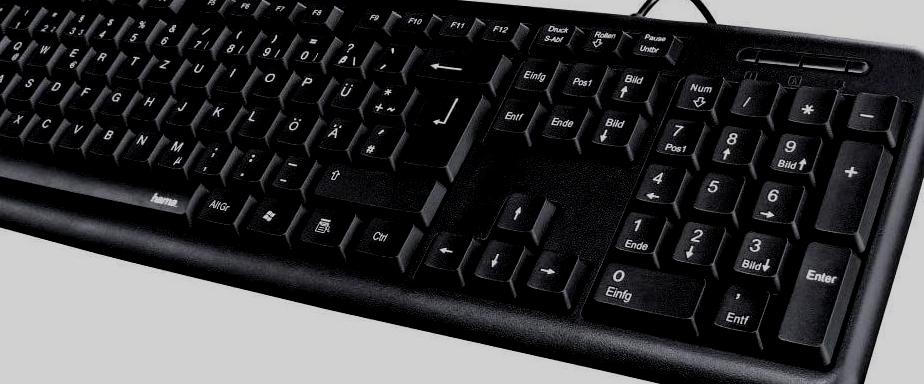0: (288, 32, 332, 67)
1: (845, 89, 900, 132), (633, 161, 684, 203), (729, 77, 779, 117), (786, 84, 837, 123), (5, 4, 41, 33)
2: (709, 123, 761, 165), (31, 5, 67, 34)
3: (744, 165, 799, 208), (58, 8, 95, 39)
4: (88, 11, 125, 41)
5: (118, 14, 156, 46)
6: (151, 18, 187, 50)
7: (182, 21, 221, 55)
8: (215, 24, 256, 60)
9: (251, 28, 291, 63)
a: (1, 67, 20, 97)
accent: (369, 40, 416, 77)
ae: (314, 115, 360, 151)
alt-left: (1, 139, 25, 172)
altgr-right: (193, 186, 249, 226)
b: (84, 123, 126, 157)
c: (23, 113, 61, 144)
caret: (1, 1, 18, 27)
comma: (189, 140, 232, 176)
d: (34, 77, 71, 106)
del: (413, 44, 508, 84)
e: (51, 42, 88, 73)
enter: (401, 86, 482, 170)
f: (67, 81, 102, 109)
g: (95, 85, 135, 116)
h: (127, 90, 168, 120)
hash: (355, 121, 404, 160)
i: (210, 62, 250, 94)
j: (163, 93, 202, 125)
k: (195, 100, 239, 132)
keyboard: (1, 1, 924, 384)
l: (235, 105, 277, 138)
less: (1, 99, 17, 129)
m: (153, 133, 197, 170)
minus: (268, 153, 314, 190)
n: (118, 129, 158, 161)
o: (247, 66, 289, 98)
oe: (273, 110, 316, 145)
p: (691, 170, 742, 213), (287, 71, 328, 104)
plus: (364, 82, 418, 121)
point: (228, 146, 273, 182)
q: (1, 35, 31, 64)
r: (79, 46, 118, 77)
s: (7, 72, 43, 102)
shift-left: (1, 94, 21, 124)
shift-lock: (1, 59, 25, 91)
shift-right: (311, 161, 438, 215)
space: (1, 144, 201, 222)
ss: (328, 36, 373, 70)
strg-left: (1, 127, 21, 156)
strg-right: (347, 216, 420, 261)
t: (112, 50, 149, 79)
tab: (1, 28, 22, 57)
u: (178, 57, 216, 88)
ue: (327, 77, 370, 109)
v: (54, 118, 92, 150)
w: (23, 39, 57, 67)
x: (1, 108, 32, 138)
y: (1, 103, 18, 133)
z: (142, 53, 182, 84)
